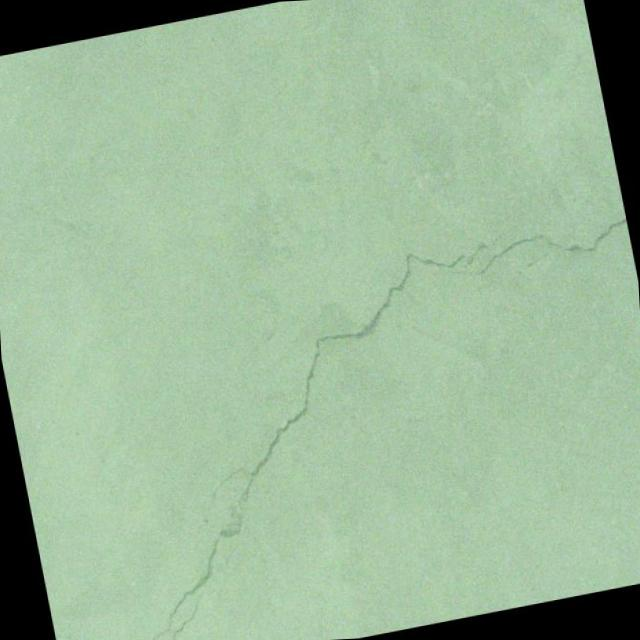crack: (75, 203, 640, 640), (149, 590, 218, 640), (382, 190, 411, 252)
